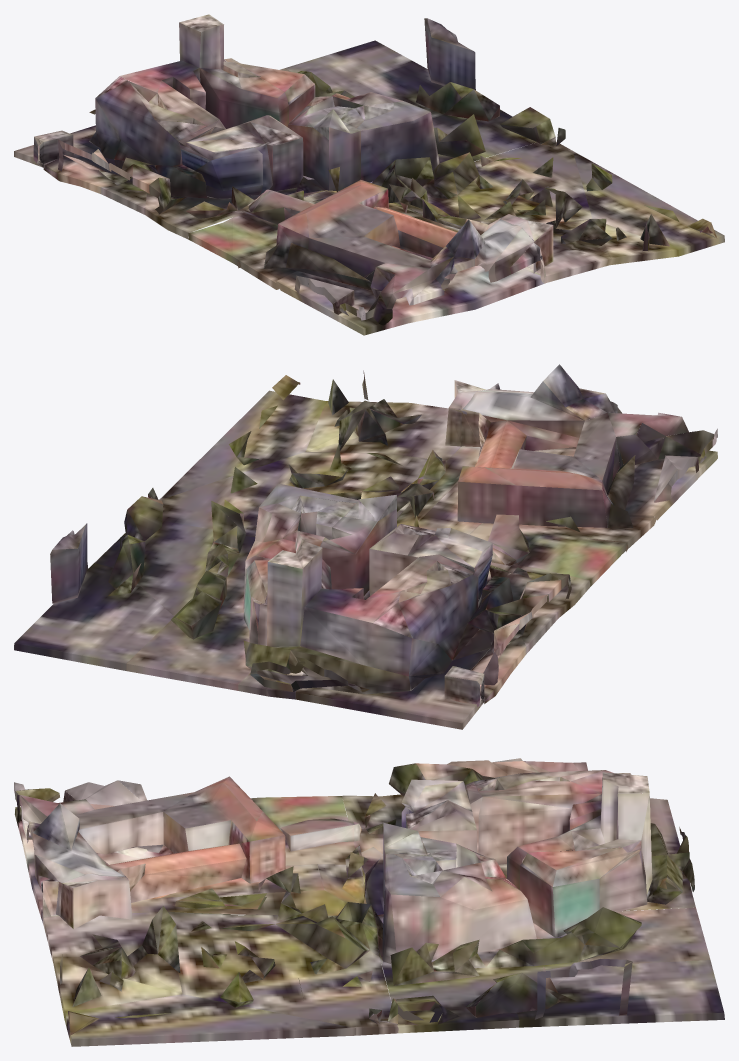
The picture shows the model from 3 angles, top to bottom: view 1: azimuth 30°, elevation 25°; view 2: azimuth 150°, elevation 25°; view 3: azimuth 270°, elevation 25°; orthographic projection. The views are drawn at different scales.
Visible parts, largest first — view 1: Mesh_0; view 2: Mesh_0; view 3: Mesh_0.
Boxes of the visible parts, left/top/right/bottom form: Mesh_0: left=14, top=14, right=724, bottom=335; Mesh_0: left=14, top=364, right=717, bottom=729; Mesh_0: left=14, top=758, right=724, bottom=1046.
Size of the model in its own units: 266 by 64.45 by 330.
2 materials, 2 textured.
